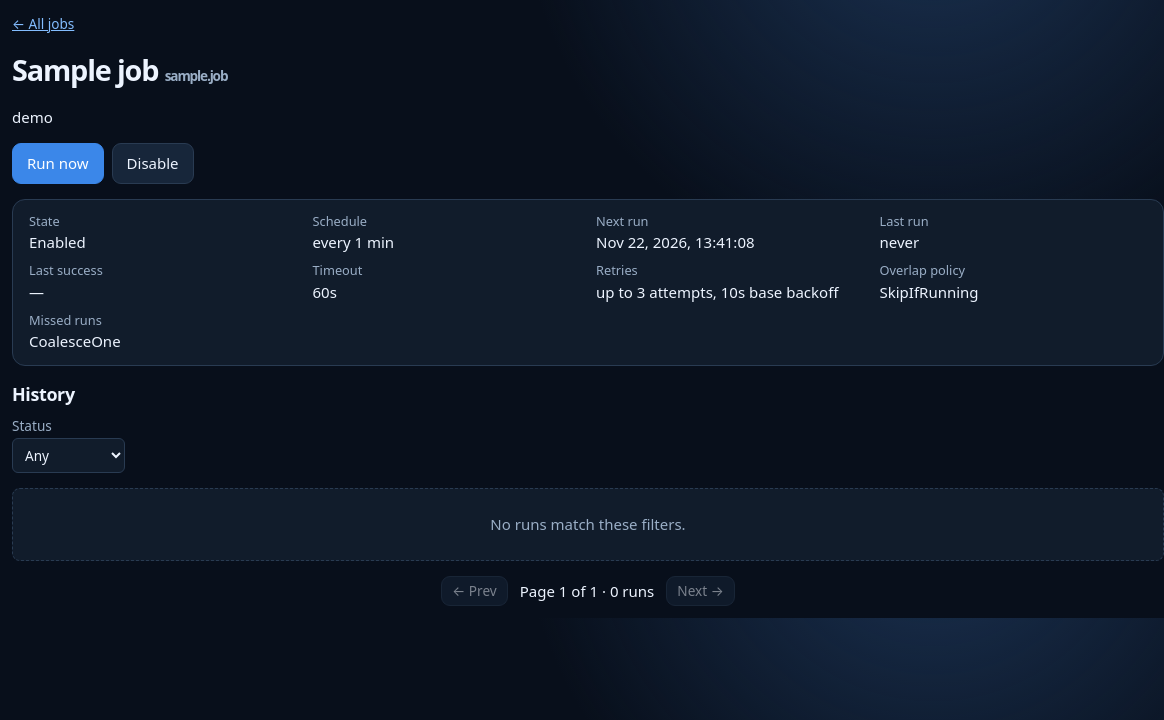
Scenario: JobDetail role gating › shows the server's problem detail when an action is rejected
The image size is (1164, 720).
Click the button "Run now" at (58, 164), box [12,143,104,184]
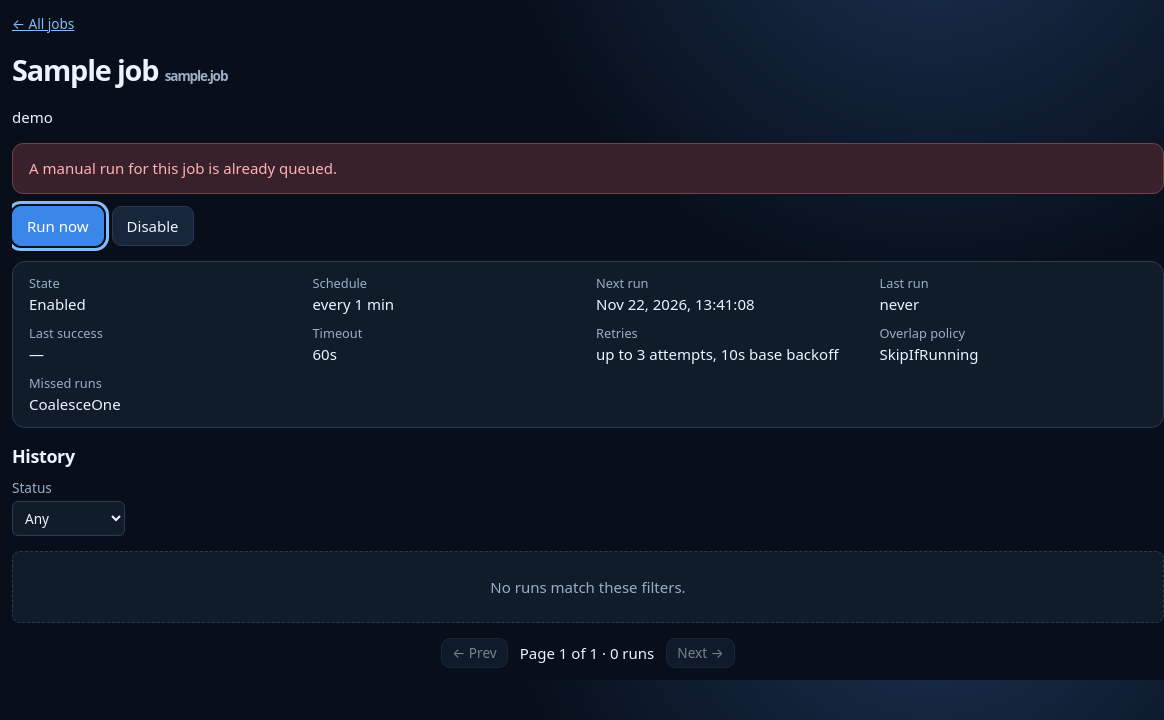
expect the message shows "already queued": met, box [29,158,337,178]
